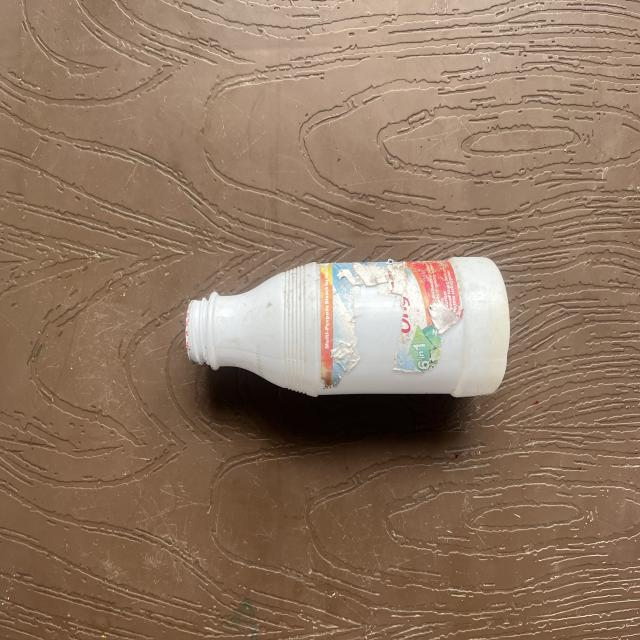REJECT: (186, 251, 485, 425)
